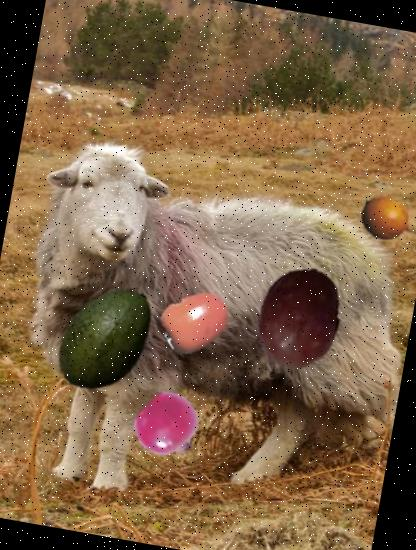Avocado: (41, 272, 174, 406)
Granadilla: (353, 184, 416, 256)
Grape: (240, 258, 360, 378)
Kaki: (156, 280, 238, 362)
Redcurrant: (131, 390, 206, 464)
